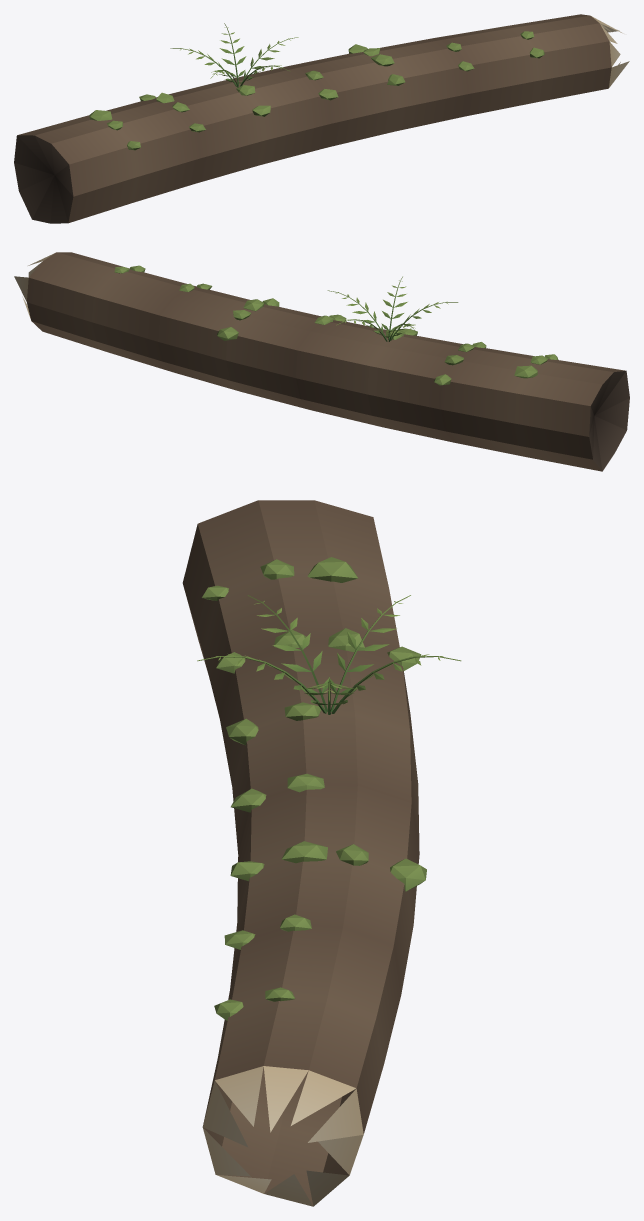
File: fallen_log_b.glb
The picture shows the model from 3 angles, top to bottom: view 1: azimuth 30°, elevation 25°; view 2: azimuth 150°, elevation 25°; view 3: azimuth 270°, elevation 25°; orthographic projection. The views are drawn at different scales.
Parts seen in each view (by area): view 1: fallen_log_b; view 2: fallen_log_b; view 3: fallen_log_b.
Part boxes in pixels (x1=…): fallen_log_b: x1=14, y1=14, x2=629, y2=223; fallen_log_b: x1=14, y1=252, x2=629, y2=471; fallen_log_b: x1=182, y1=500, x2=461, y2=1206.
Size of the model in its own units: 3.53 by 0.6661 by 0.7252.
